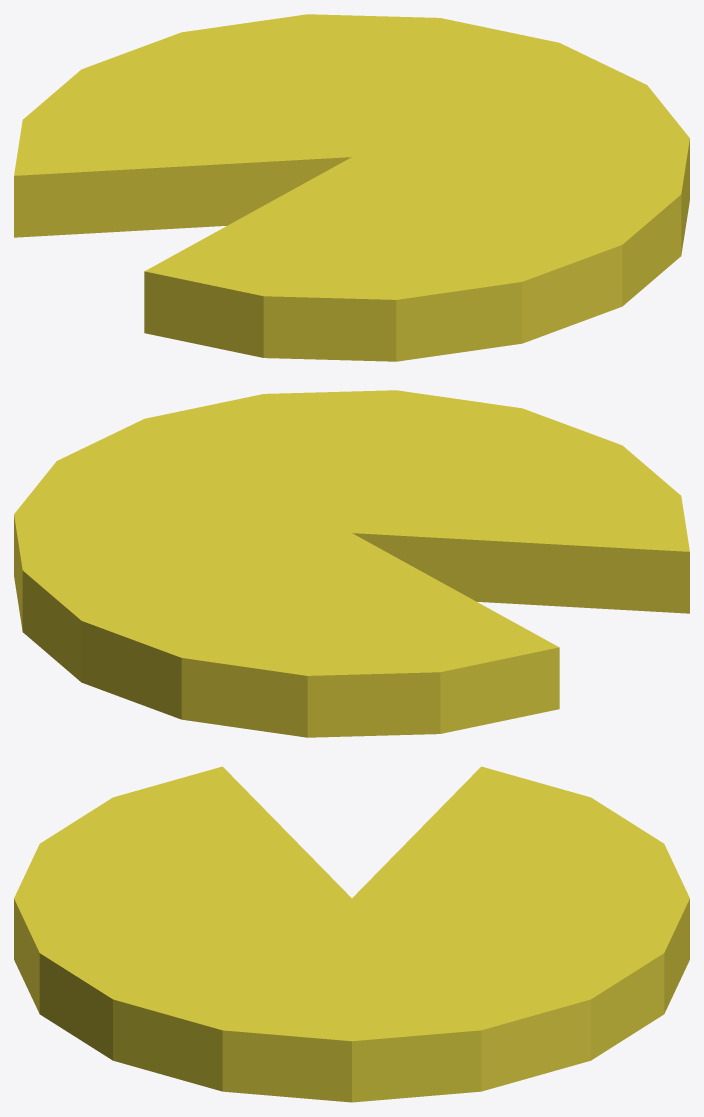
The model's file is MapPuck-Pac.fbx.
3 views of the same model, one above another, from view 1: azimuth 30°, elevation 25°; view 2: azimuth 150°, elevation 25°; view 3: azimuth 270°, elevation 25° (orthographic).
Parts seen in each view (by area): view 1: Cylinder; view 2: Cylinder; view 3: Cylinder.
Boxes of the visible parts, box(x1,y1,x2,y2) form: Cylinder: box(14, 14, 689, 361); Cylinder: box(14, 390, 689, 737); Cylinder: box(14, 766, 689, 1102).
Size of the model in its own units: 192 by 20 by 200.
